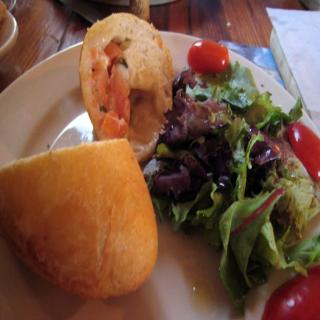tomato: (259, 266, 319, 320), (288, 123, 320, 179), (186, 38, 227, 71)
